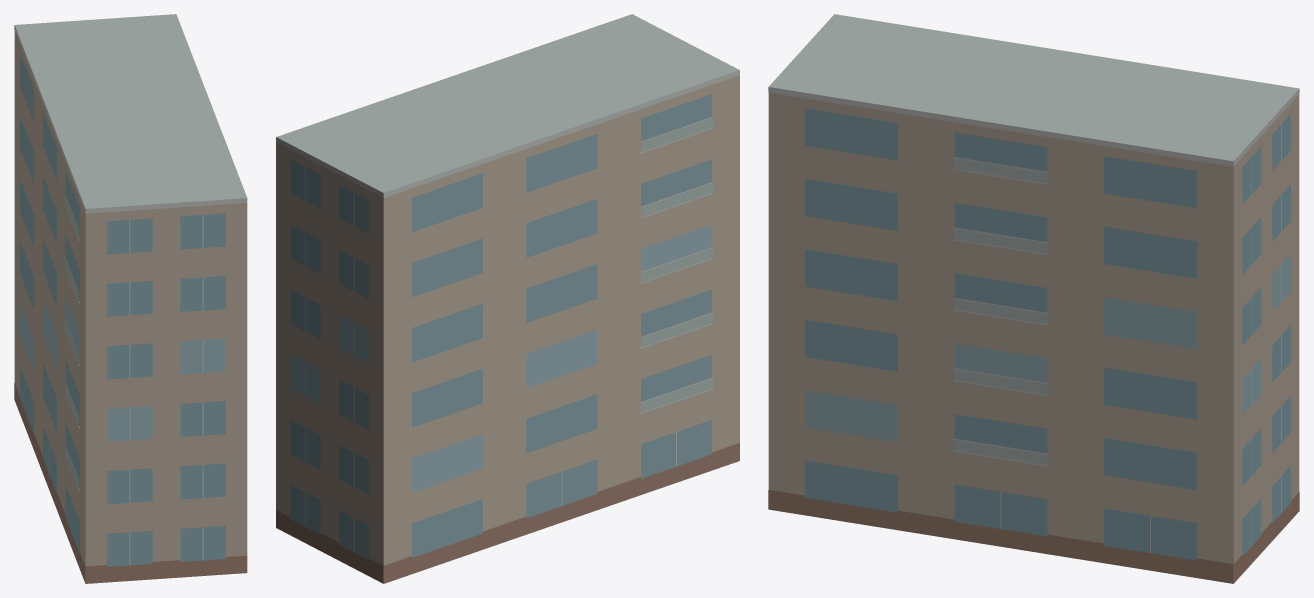
File: survey-upis-32553008.glb
The picture shows the model from 3 angles, left to right: view 1: azimuth 30°, elevation 25°; view 2: azimuth 150°, elevation 25°; view 3: azimuth 270°, elevation 25°; orthographic projection. The views are drawn at different scales.
Visible parts, largest first — view 1: survey-upis-32553008.tmp; view 2: survey-upis-32553008.tmp; view 3: survey-upis-32553008.tmp.
Boxes of the visible parts, x1,y1,x2,y2 form: survey-upis-32553008.tmp: (14, 14, 247, 583); survey-upis-32553008.tmp: (276, 14, 739, 583); survey-upis-32553008.tmp: (768, 14, 1299, 583).
Bounding box in the file's own units: 14.06 × 18.8 × 21.42.
